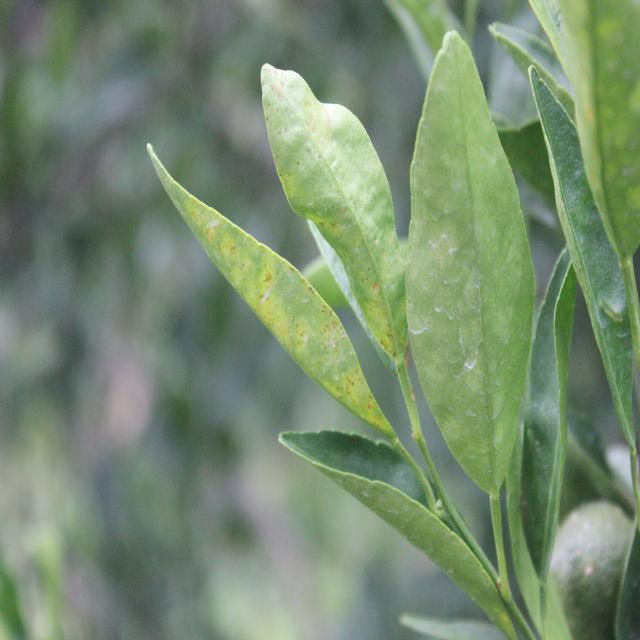canker: (189, 188, 366, 428), (273, 85, 411, 371)
